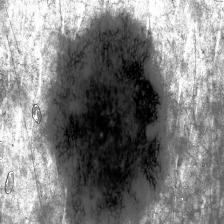Benign Marking or Mole: (49, 23, 167, 224)
